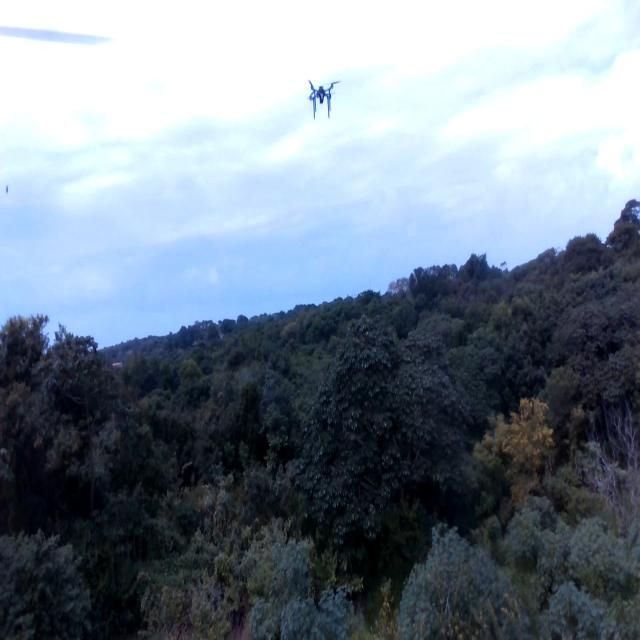-uav-: (298, 64, 345, 128)
